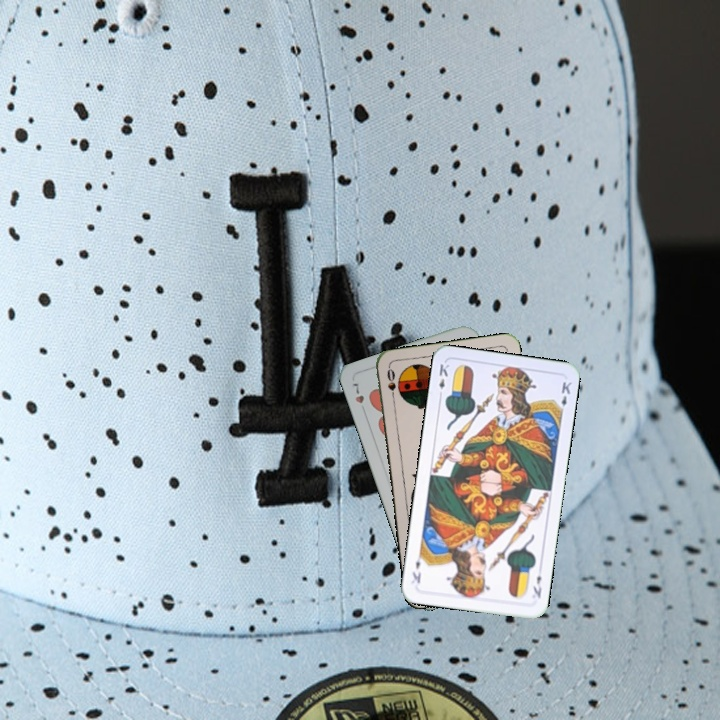EK: (435, 360, 452, 400), (529, 571, 544, 600)
H7: (348, 379, 369, 417)
SO: (383, 364, 398, 405)
